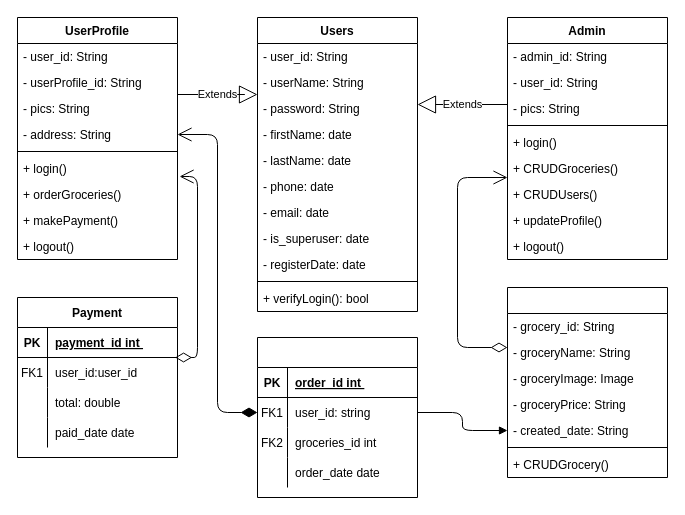
Image size: 685x515. Some labels were removed from this diagram. Here are the shapes that lost their labels. From the top down, the box of each, then its label:
(506, 286, 668, 478): Groceries
(256, 336, 418, 498): Orders
